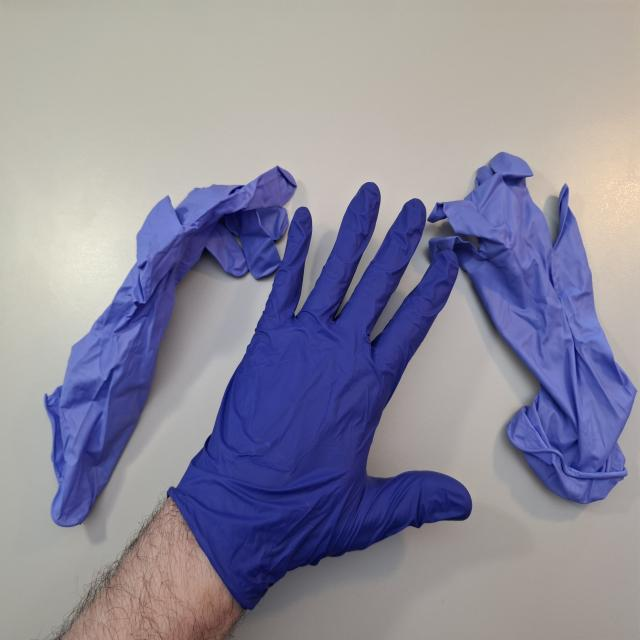glove_on: (175, 179, 476, 604)
